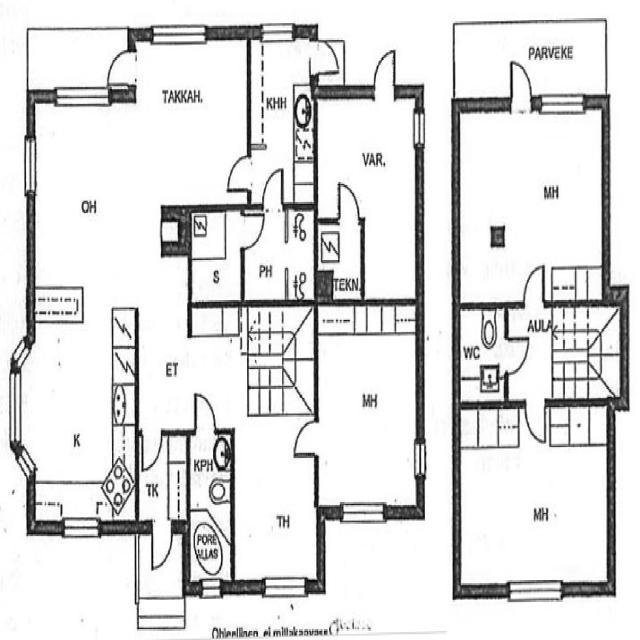door: (370, 45, 402, 110), (507, 55, 537, 119), (105, 45, 137, 97), (286, 415, 321, 462), (308, 38, 345, 80), (189, 388, 218, 439), (260, 163, 289, 214), (332, 177, 362, 226), (137, 425, 165, 476), (500, 335, 532, 379), (520, 261, 548, 309), (149, 523, 174, 574), (223, 152, 254, 193), (522, 399, 548, 447), (240, 208, 266, 251)
window: (500, 574, 568, 608), (146, 18, 212, 51), (333, 496, 391, 530), (536, 88, 591, 122), (257, 571, 311, 604), (52, 82, 111, 112), (6, 368, 25, 446), (58, 513, 105, 544), (21, 134, 40, 202), (410, 105, 428, 160), (256, 19, 297, 43), (410, 436, 428, 483), (196, 579, 224, 603)
zone: (454, 404, 613, 591), (456, 107, 606, 301), (18, 313, 134, 528), (315, 299, 421, 515), (128, 35, 246, 208), (232, 411, 319, 588), (316, 95, 421, 217), (248, 34, 314, 205), (188, 427, 233, 590), (243, 205, 316, 305), (190, 207, 244, 307), (456, 302, 509, 403), (316, 213, 363, 304)
